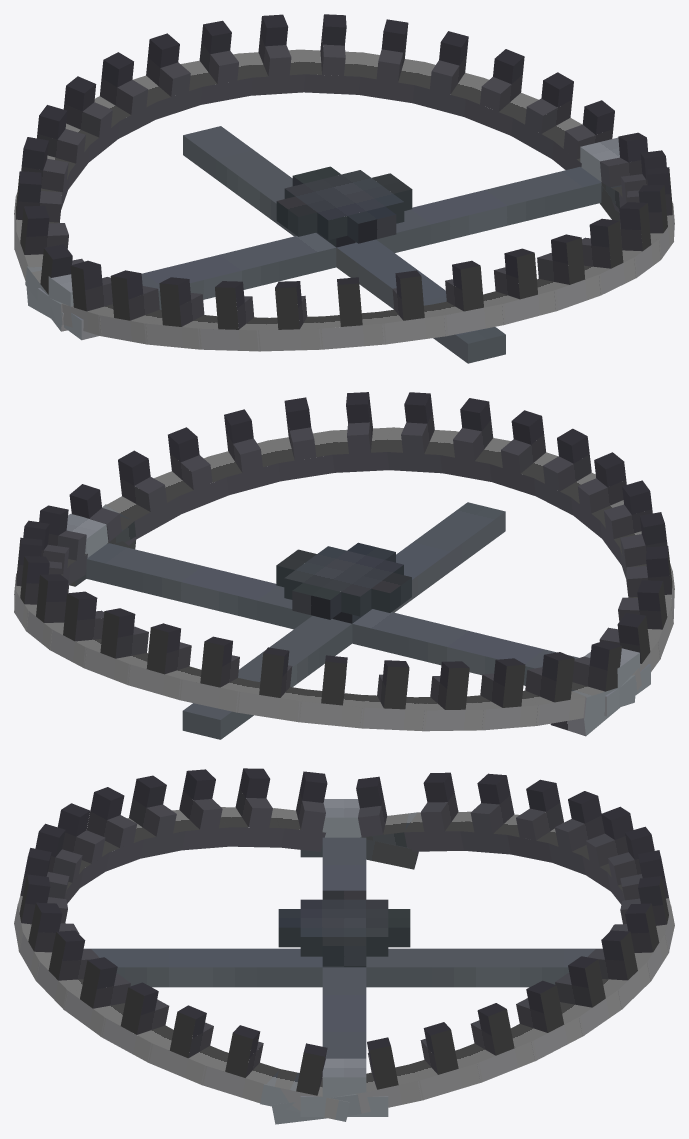
File: trap-24_2.glb
3 renders of one model, top to bottom at view 1: azimuth 30°, elevation 25°; view 2: azimuth 150°, elevation 25°; view 3: azimuth 270°, elevation 25°, orthographic.
Visible parts, largest first — view 1: 10$$(1)-Local; view 2: 10$$(1)-Local; view 3: 10$$(1)-Local.
Part boxes in pixels (<box>): 10$$(1)-Local: <box>14,14,674,363</box>; 10$$(1)-Local: <box>14,392,674,739</box>; 10$$(1)-Local: <box>14,768,674,1124</box>.
Size of the model in its own units: 1 by 0.201 by 1.
3 materials, 3 textured.
